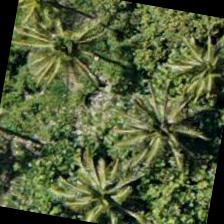Kelapa_Sawit: (110, 78, 215, 182), (7, 0, 112, 100), (38, 141, 140, 223), (49, 143, 151, 223), (152, 20, 223, 122), (11, 0, 81, 51)
